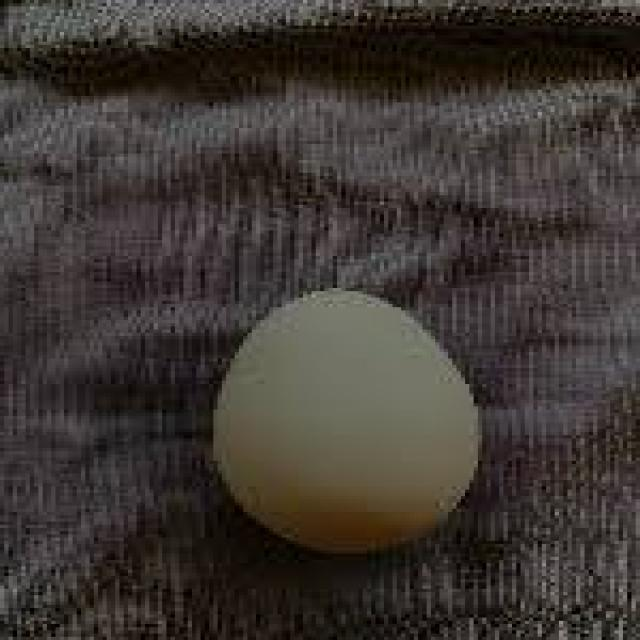telur: (202, 282, 488, 556)
